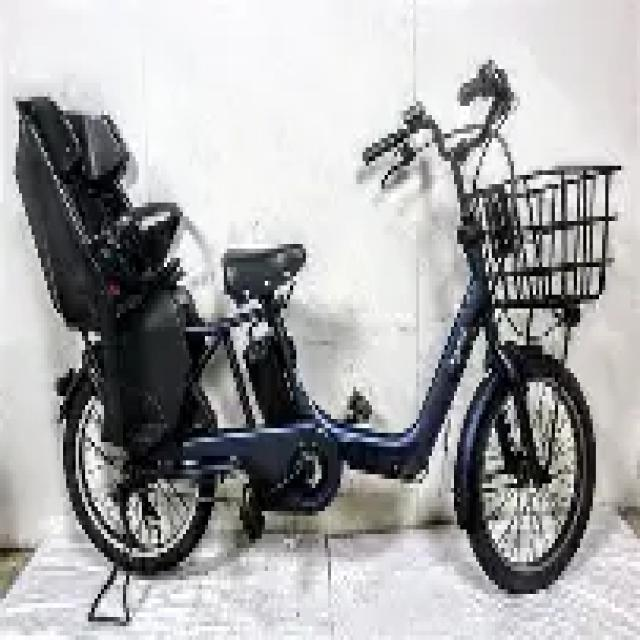basket: (460, 159, 624, 307)
battery: (244, 329, 303, 431)
childseat: (12, 93, 211, 456)
